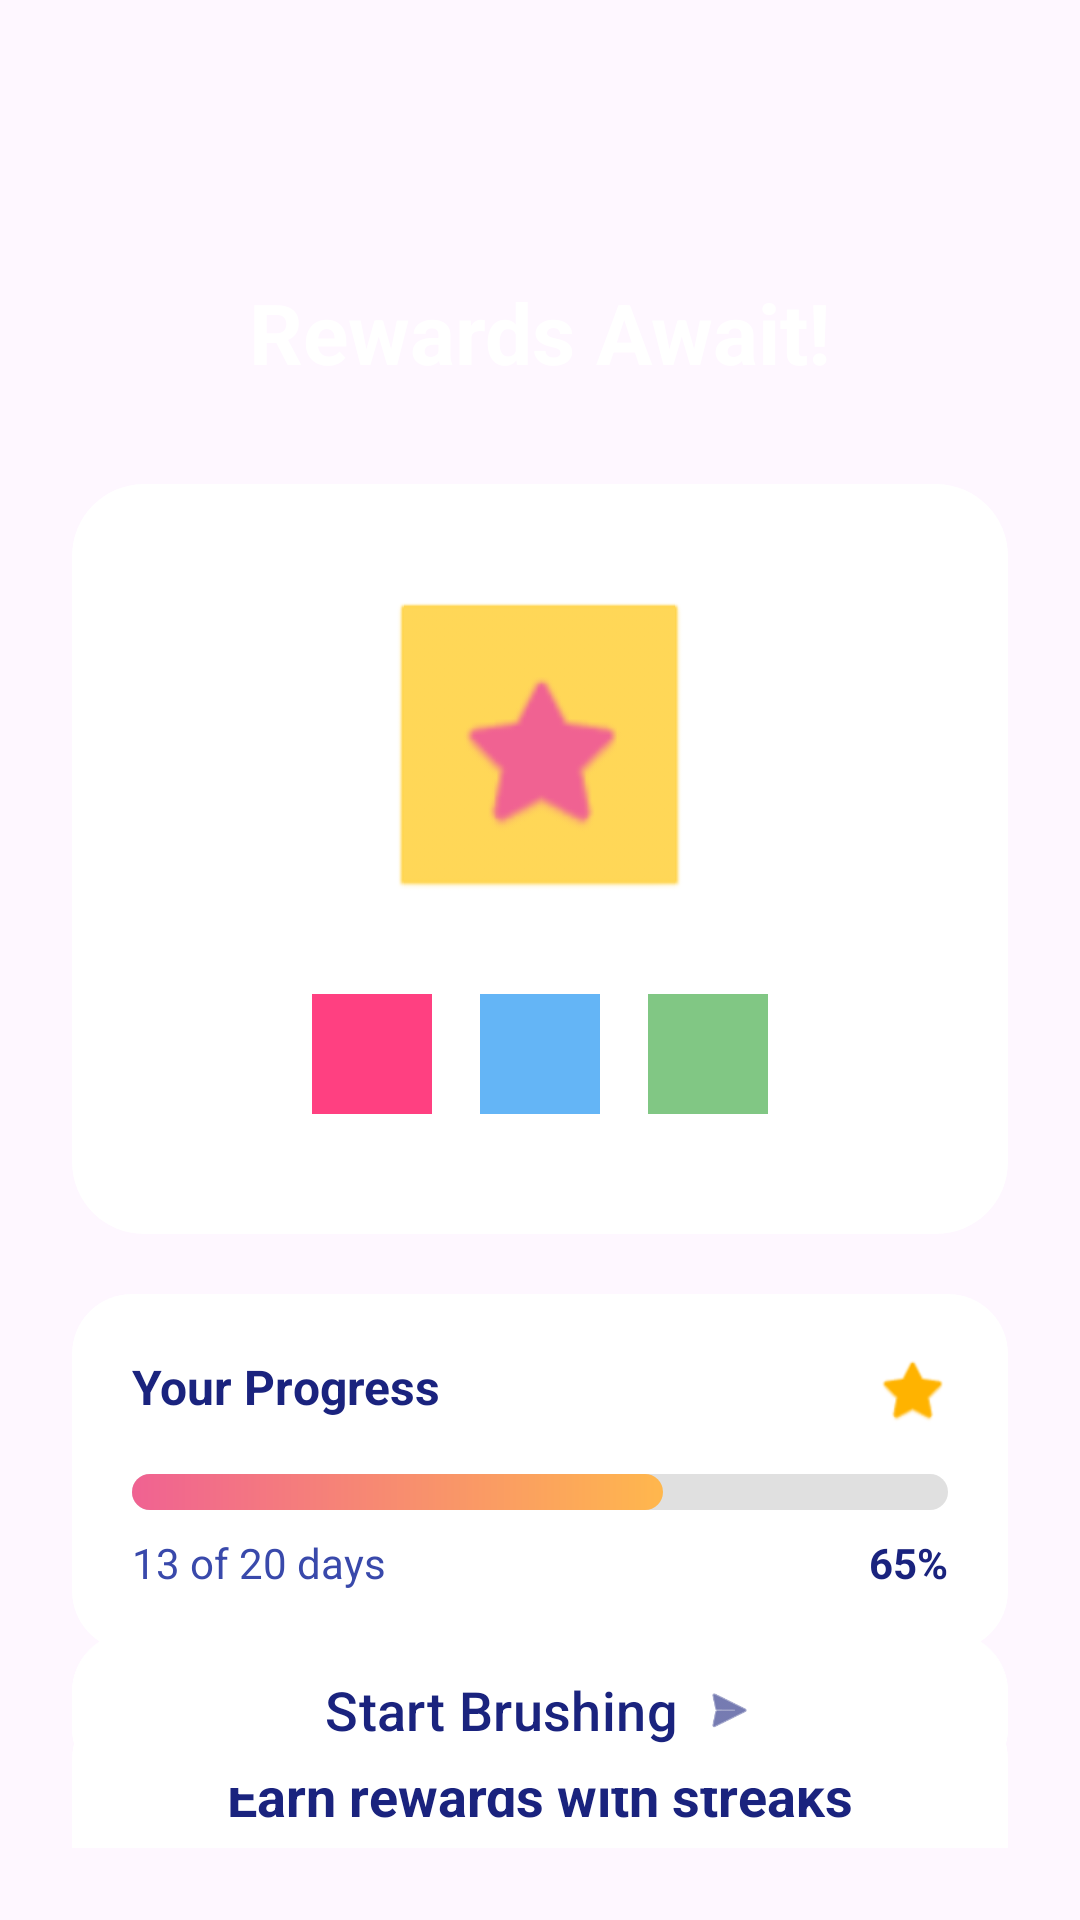

Named icons in this screenshot (1080px x 1920px) and their bounding boxes, (x1, y1, x2, y2):
star on: (467, 680, 616, 824), (882, 1361, 943, 1420)
